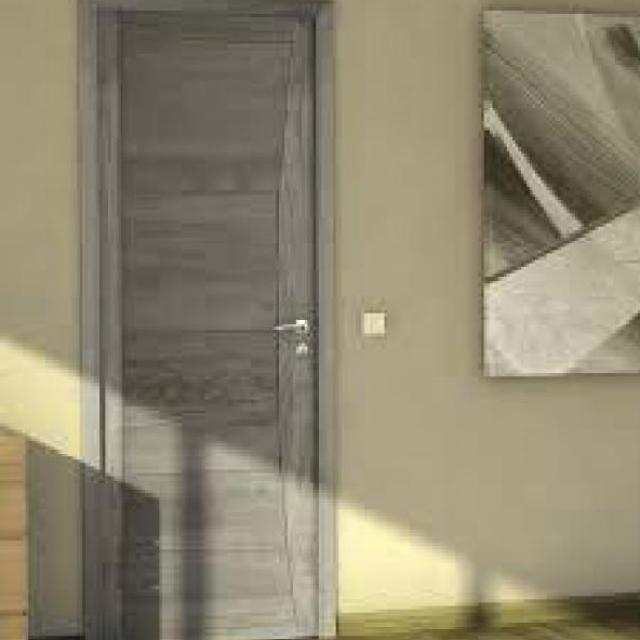door: (83, 1, 333, 638)
